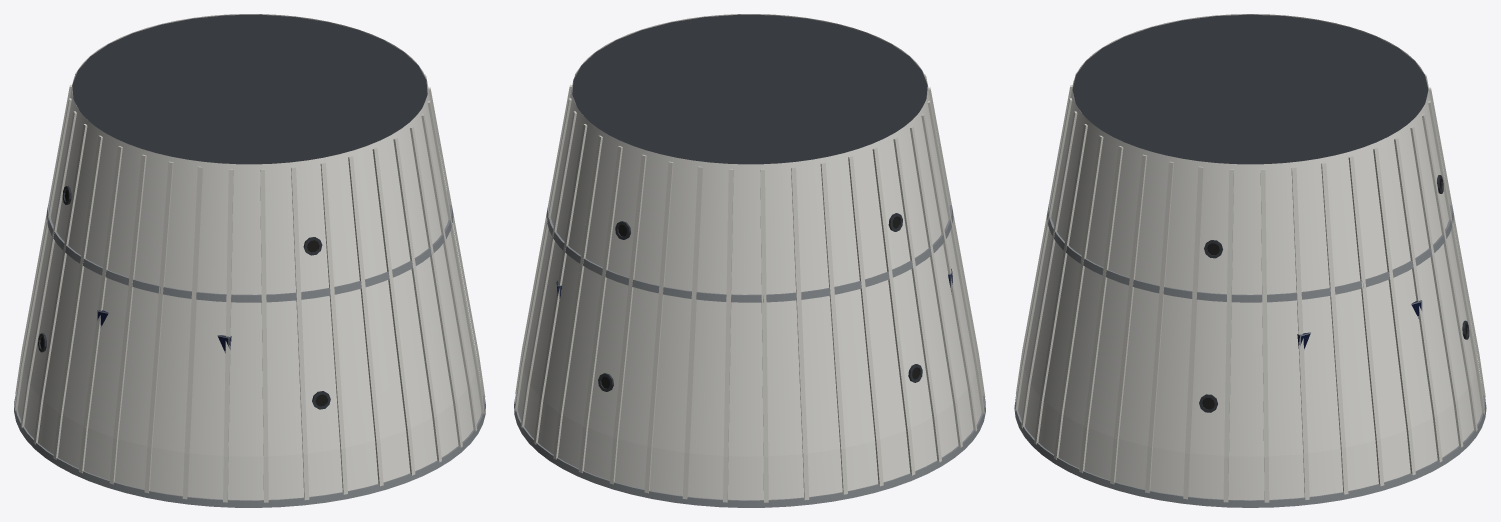
Rendered from gemini_adapter.glb.
3 views of the same model, side by side, from view 1: azimuth 30°, elevation 25°; view 2: azimuth 150°, elevation 25°; view 3: azimuth 270°, elevation 25° (orthographic).
Parts seen in each view (by area): view 1: body; view 2: body; view 3: body.
Part boxes in pixels (x1=…): body: x1=14, y1=14, x2=485, y2=507; body: x1=514, y1=14, x2=985, y2=507; body: x1=1014, y1=14, x2=1486, y2=507.
Bounding box in the file's own units: 2.52 × 1.89 × 2.52.
11 materials, 1 textured.
